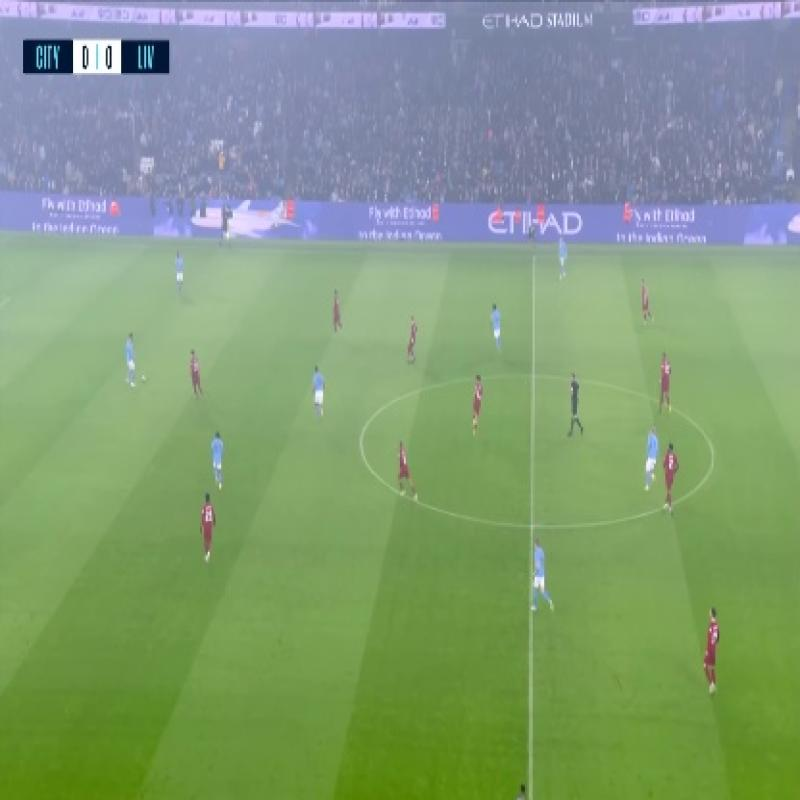13: (525, 242, 544, 270)
14: (519, 358, 544, 388)
15: (515, 506, 546, 544)
9: (0, 284, 19, 312)
c: (699, 441, 726, 464), (351, 428, 372, 453)
